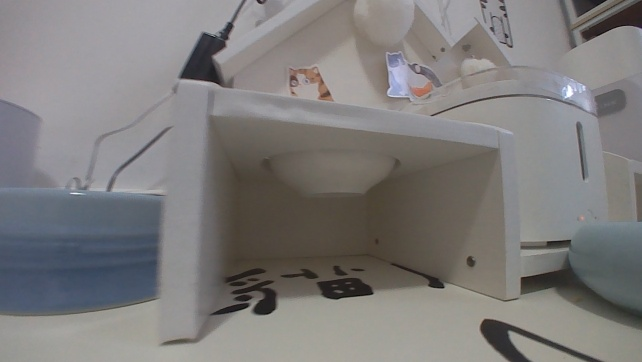wire: (62, 90, 175, 190), (102, 125, 173, 192), (214, 0, 245, 40)
